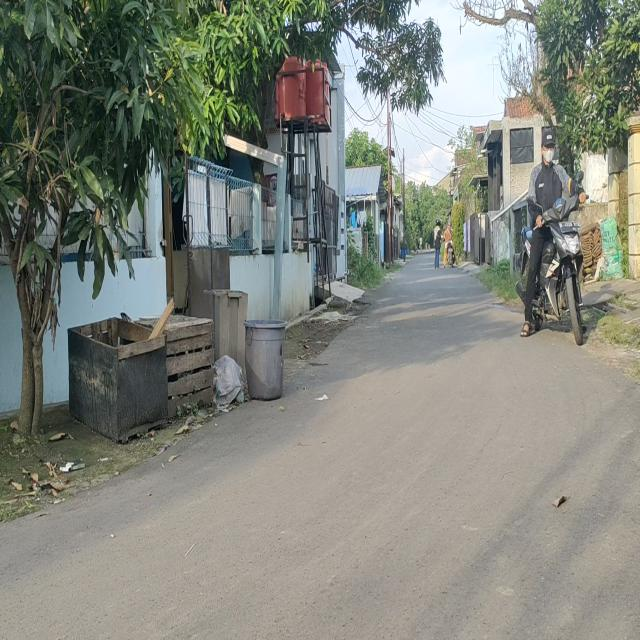helmet: (446, 218, 453, 232)
no-helmet: (540, 128, 558, 168)
